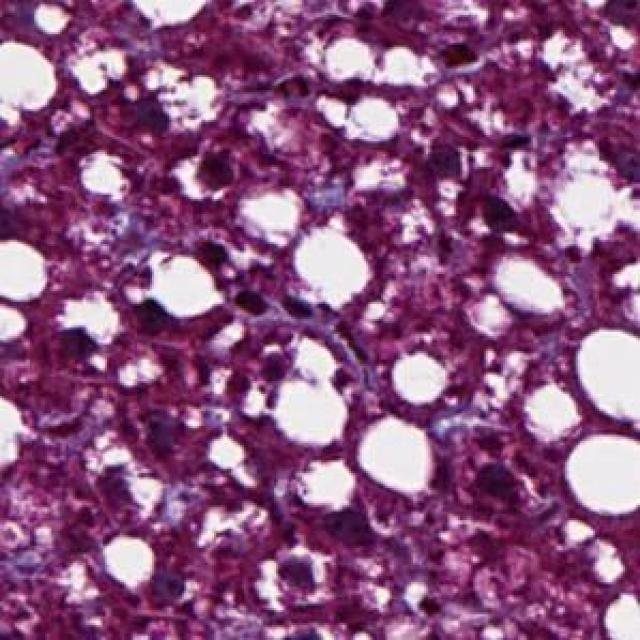steatosis: (355, 415, 439, 499)
